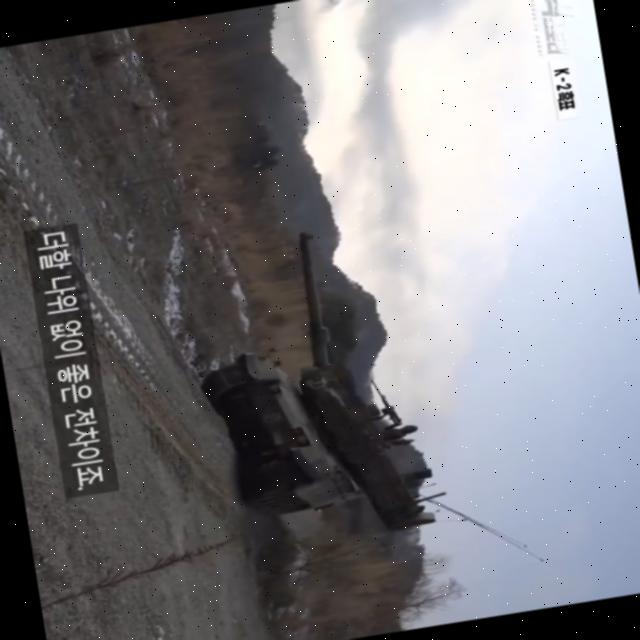korea tank: (176, 212, 454, 558)
